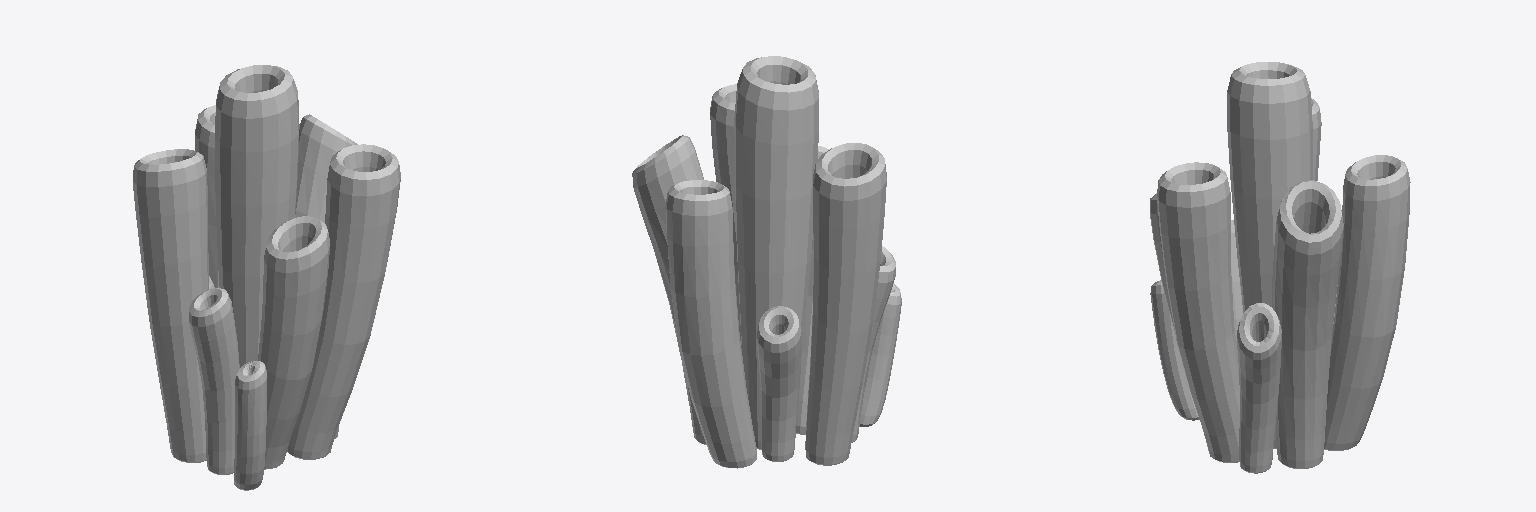
Rendered from plant3.obj.
The picture shows the model from 3 angles: view 1: azimuth 30°, elevation 25°; view 2: azimuth 150°, elevation 25°; view 3: azimuth 270°, elevation 25°; orthographic projection.
Parts seen in each view (by area): view 1: coral_04; view 2: coral_04; view 3: coral_04.
Part boxes in pixels (bbox=[...]): coral_04: bbox=[133, 65, 400, 490]; coral_04: bbox=[632, 56, 901, 468]; coral_04: bbox=[1150, 62, 1410, 473].
Size of the model in its own units: 0.2565 by 0.3917 by 0.2488.